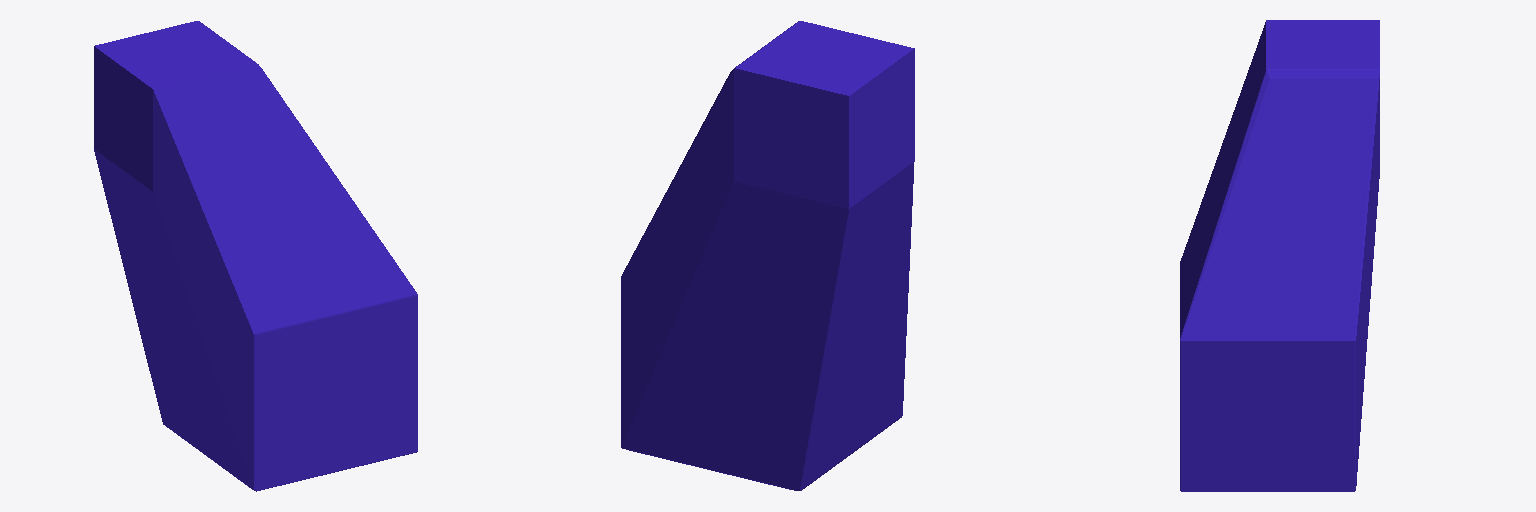
robot.urdf — step_16_link_7.obj:
<robot name="step_16_link_7.obj">
	<link name="link0">
		<visual>
			<origin xyz="0 0 0" rpy="0 0 0" />
			<geometry>
				<mesh filename="step_16_link_7.obj" scale="1.0 1.0 1.0" />
			</geometry>
			<material name="texture">
				<color rgba="0.3 0.2 0.8 0.5" />
			</material>
		</visual>
		<inertial>
			<mass value="0" />
			<inertia ixx="0.0" ixy="0.0" ixz="0.0" iyy="0.0" iyz="0.0" izz="0.0" />
		</inertial>
	<collision><geometry><mesh filename="step_16_link_7.obj" /></geometry></collision></link>
</robot>

--- What the picture shows (computed from the rendered views, not written in the file) ---
Views: 3 orthographic renders of the robot side by side, from view 1: azimuth 30°, elevation 25°; view 2: azimuth 150°, elevation 25°; view 3: azimuth 270°, elevation 25°.
Model step_16_link_7.obj with 1 links and 0 joints (none), rooted at link0, posed every joint at zero.
Visible links, largest first — view 1: link0; view 2: link0; view 3: link0.
Link boxes in pixels (<box>): link0: <box>94,21,417,491</box>; link0: <box>621,21,914,490</box>; link0: <box>1180,20,1379,491</box>.
Bounding box of the posed robot: 0.2416 × 0.1984 × 0.4042 m (x, y, z).
Meshes: 1 distinct files referenced, 1 mesh visuals loaded (1 OBJ).